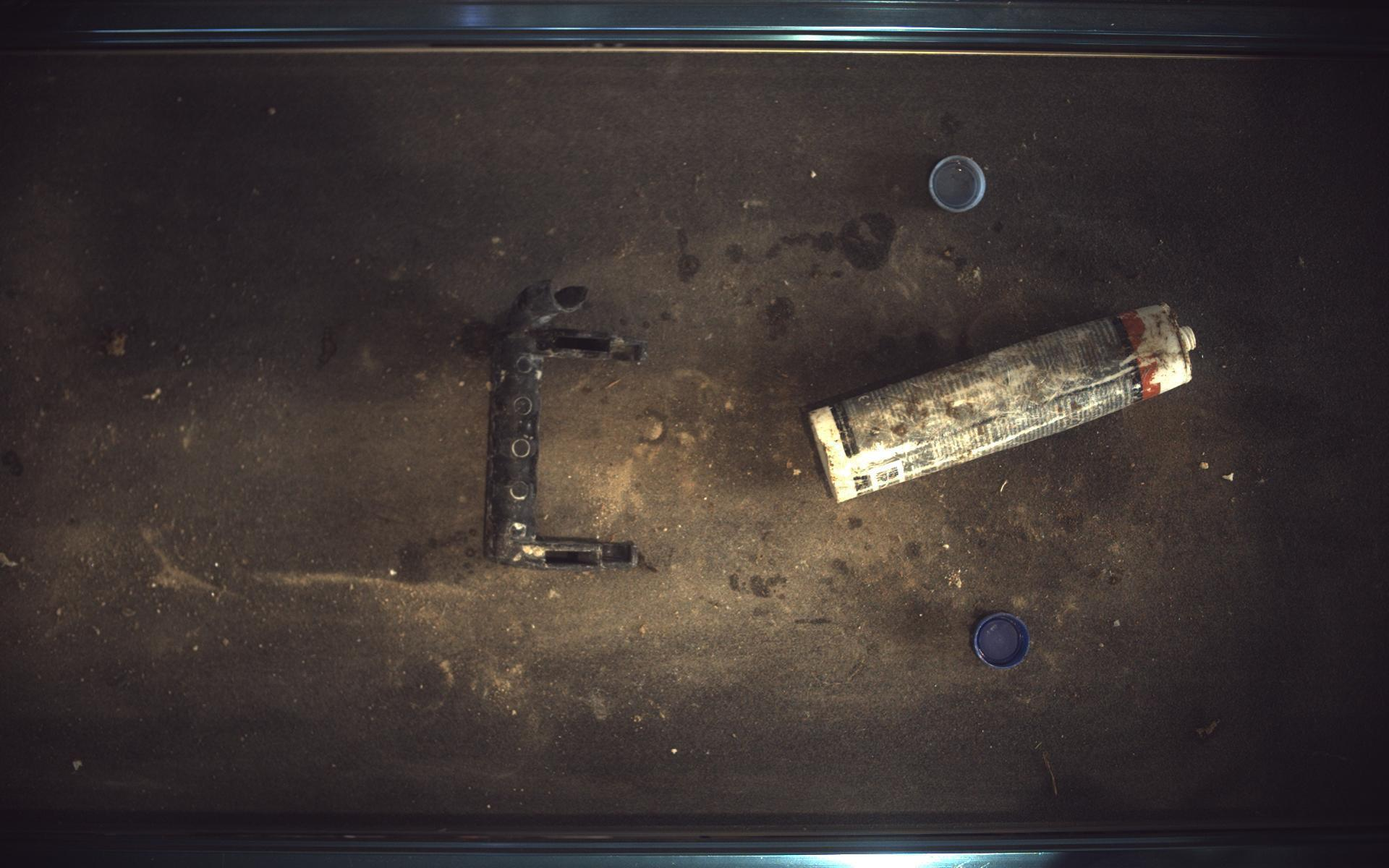general_w: (485, 280, 648, 570), (974, 613, 1032, 671), (931, 155, 987, 212)
plastic: (810, 305, 1199, 503)
